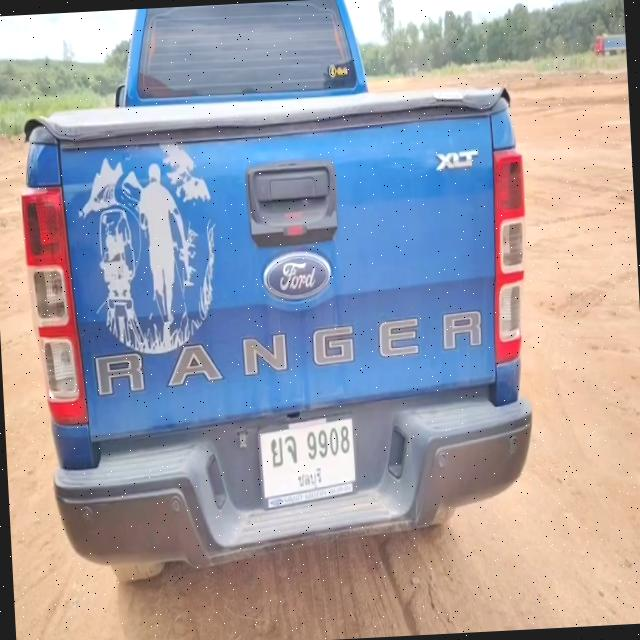Digit: (306, 424, 353, 462)
Licenseplate: (256, 415, 360, 505)
Provincename: (296, 466, 324, 491)
Thaichar: (270, 432, 298, 470)
